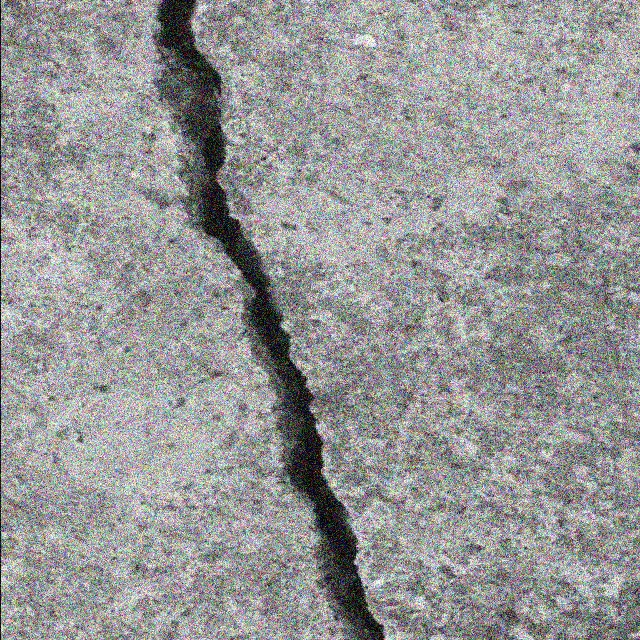SurfaceCrack: (93, 1, 477, 640)
